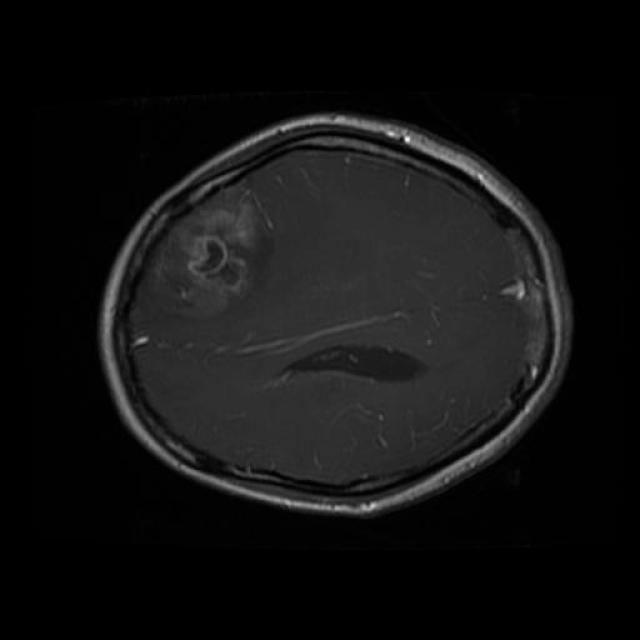Glioma: (153, 191, 269, 313)
